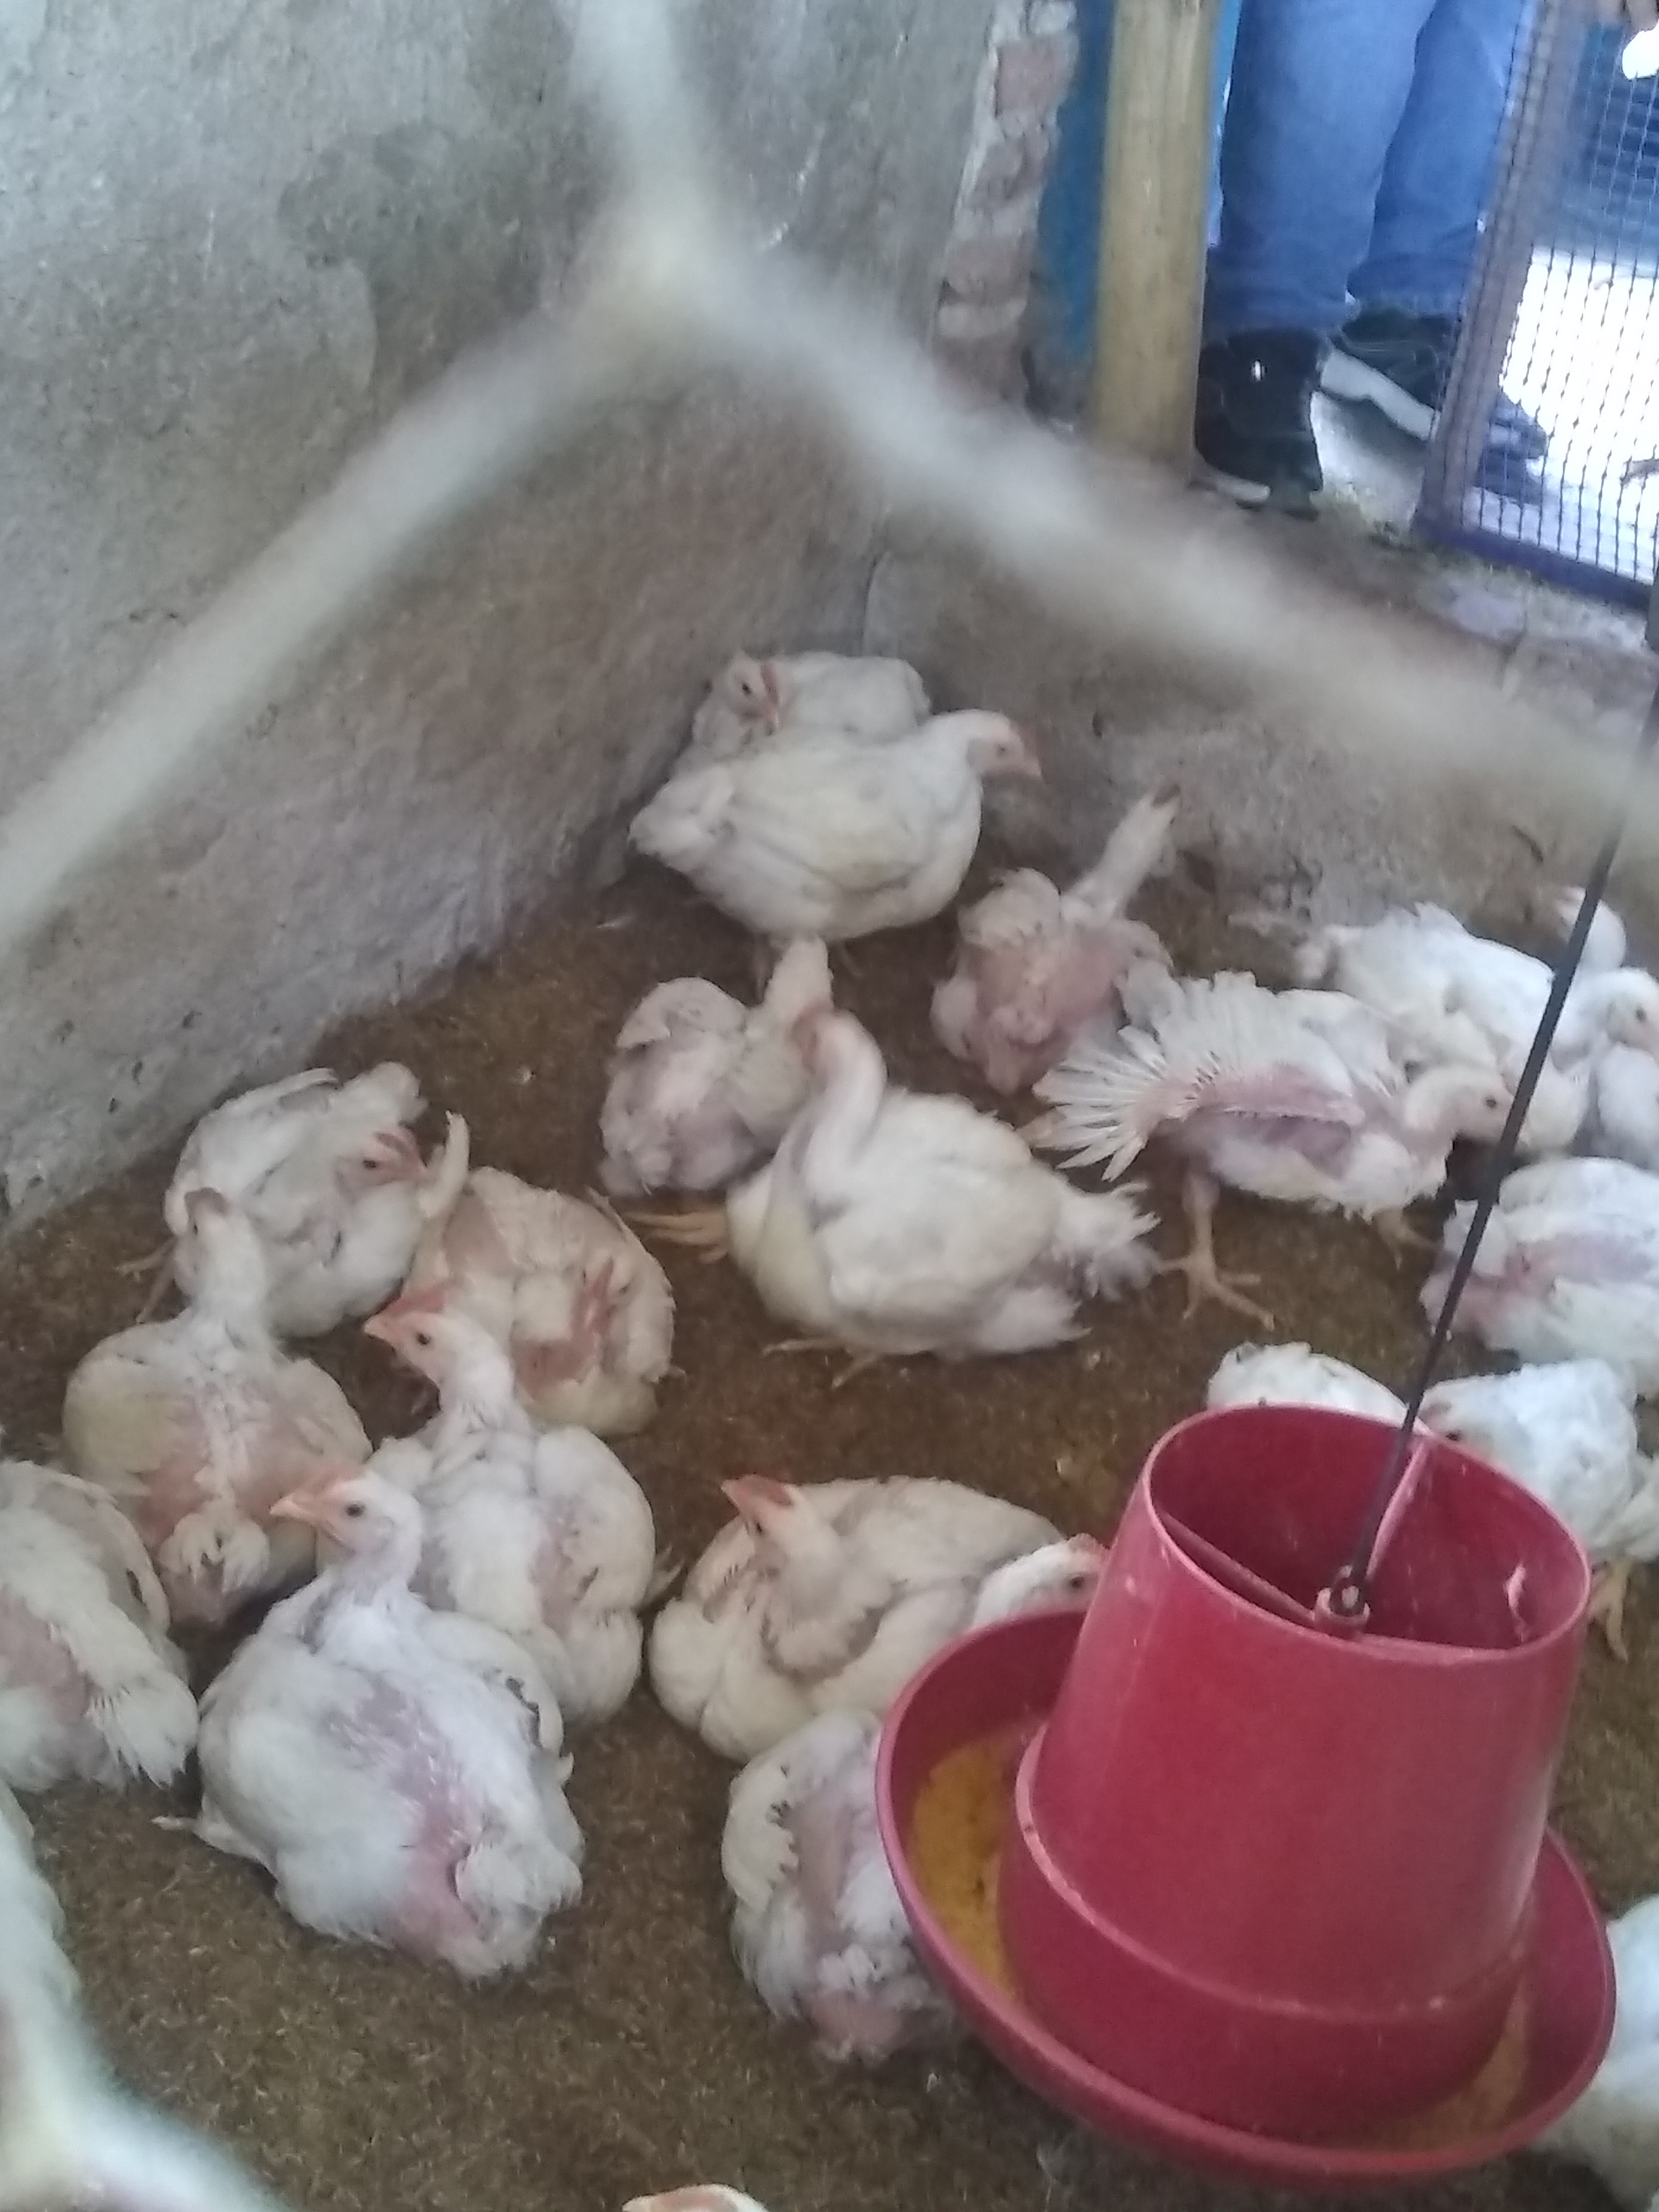Pollos: (150, 1475, 631, 2019), (688, 1533, 1145, 2022), (310, 1247, 666, 1679), (762, 1028, 1126, 1383), (645, 1440, 1115, 1712), (68, 1169, 364, 1543), (1138, 967, 1535, 1230), (669, 698, 1053, 951), (552, 921, 884, 1188), (0, 1440, 234, 1780), (1410, 1341, 1659, 1637), (237, 1005, 490, 1296), (936, 791, 1213, 1052), (1384, 1122, 1659, 1353), (1330, 885, 1650, 1059), (669, 611, 946, 733)
